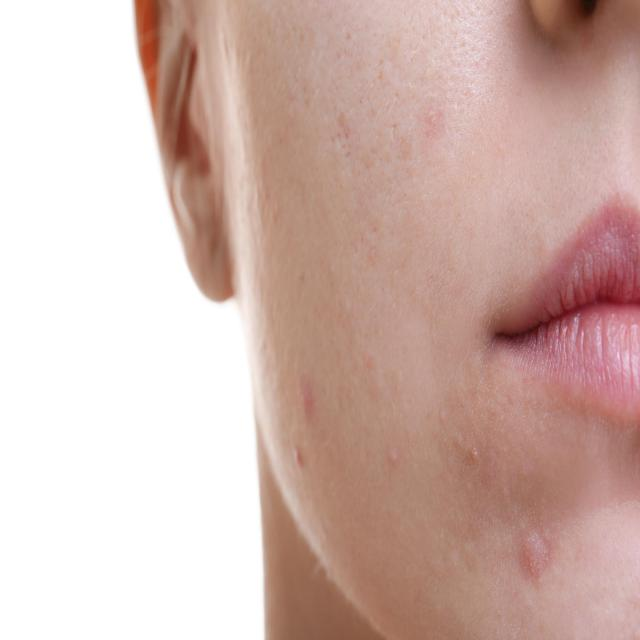acne: (286, 368, 328, 484), (510, 502, 561, 589)
